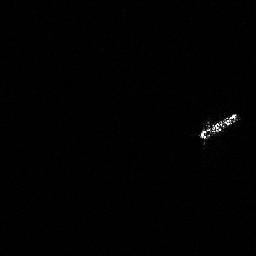ship: (194, 110, 243, 145)
